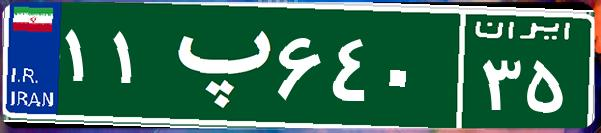0: (385, 28, 445, 110)
1: (57, 26, 110, 107), (110, 28, 158, 105)
3: (475, 38, 525, 113)
4: (330, 28, 385, 110)
5: (525, 38, 570, 115)
6: (273, 28, 330, 110)
پ: (158, 15, 273, 115)
